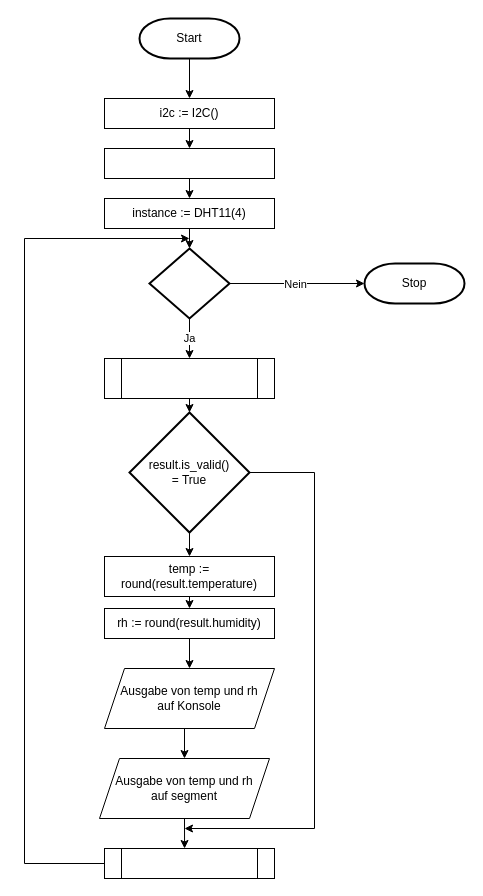
The diagram is 483 pixels wide and 896 high, and some of its shapes have lost their labels. The centre of each missing label's shape, as x and y in pixels:
"result := instance.read()" goes at [189,378].
"segment := Seg7x4(i2c, 0x70)" goes at [189,163].
"sleep(2)" goes at [189,863].
"True" goes at [189,283].
